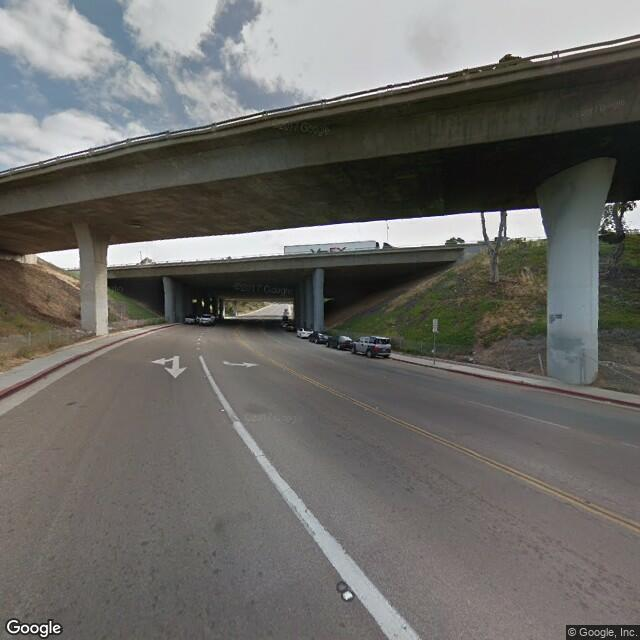litter: (468, 350, 477, 366)
